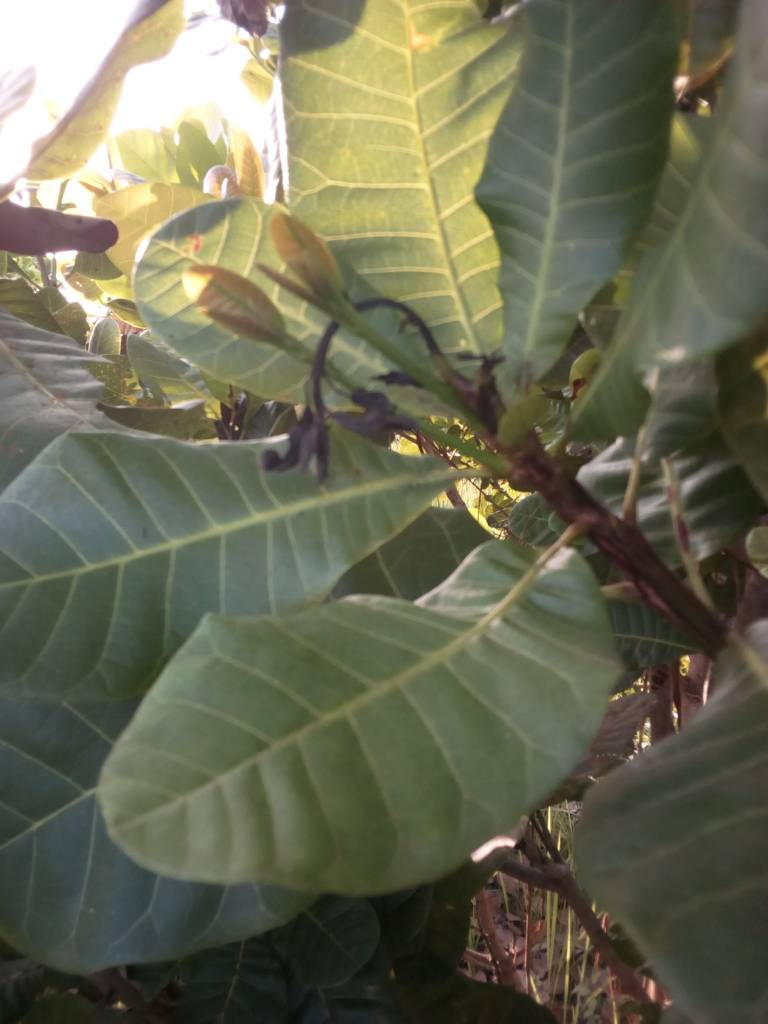Dessèchement des bourgeons: (519, 444, 725, 642), (415, 311, 502, 427), (265, 338, 329, 472)
